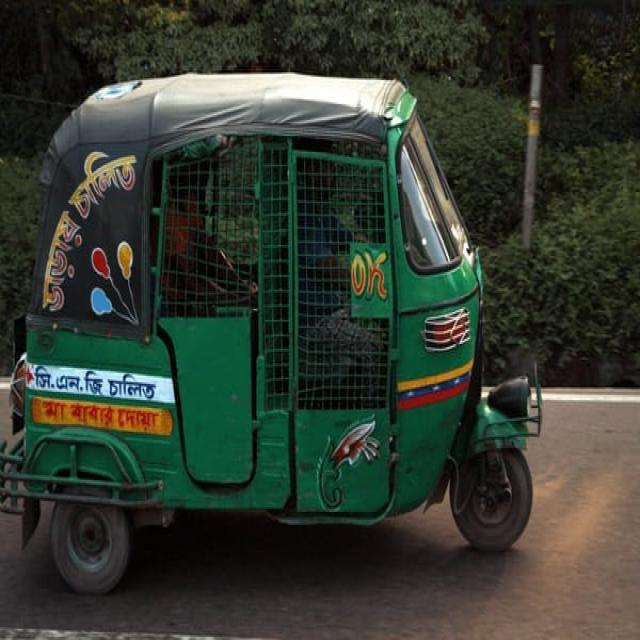CNG: (2, 73, 546, 603)
